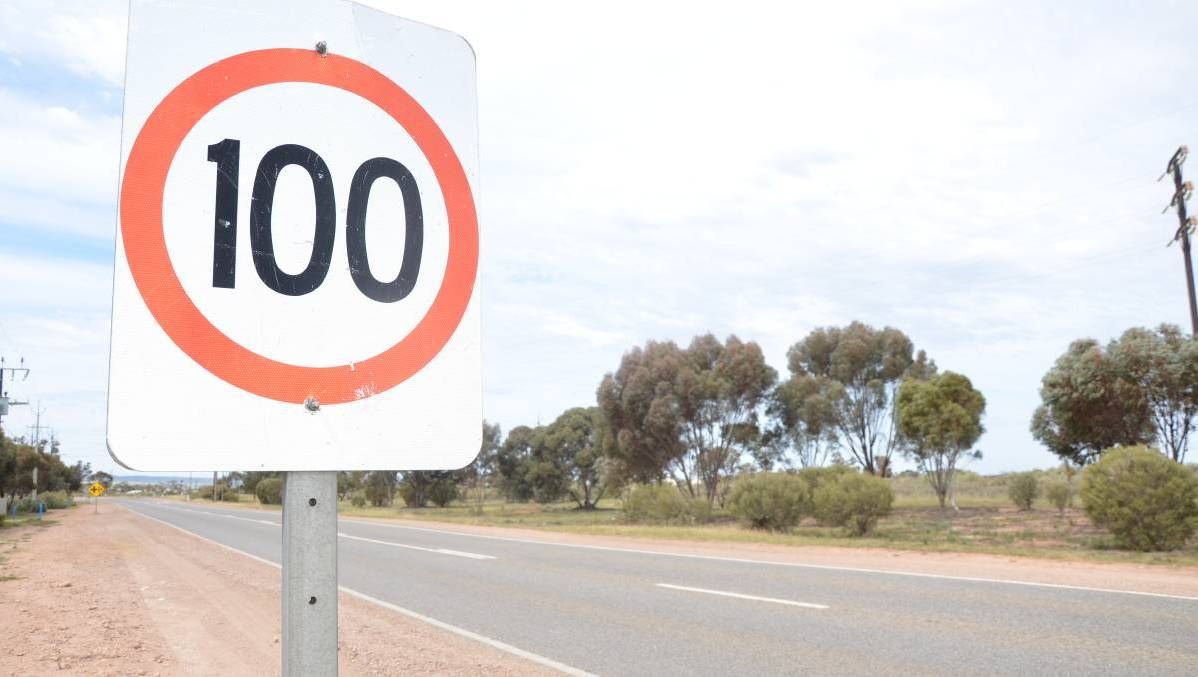Speed_limit_100km: (122, 47, 480, 410)
